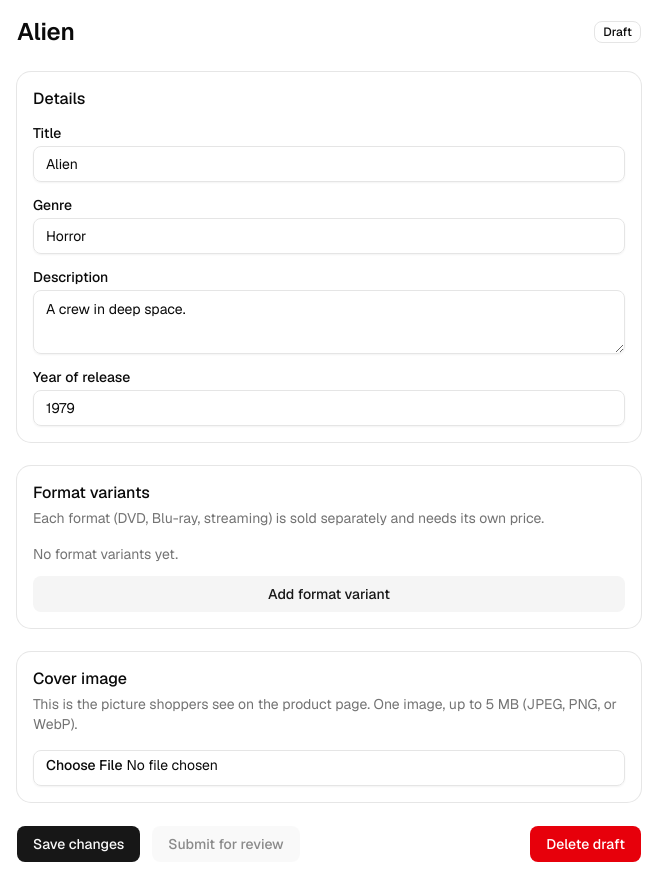
EditMovieDraftPage › saves scalar field and format variant changes via PUT
The width and height of the screenshot is (659, 872).
Replace the text in the field showing "Alien" with "Aliens": (329, 164) x1=33 y1=146 x2=625 y2=182
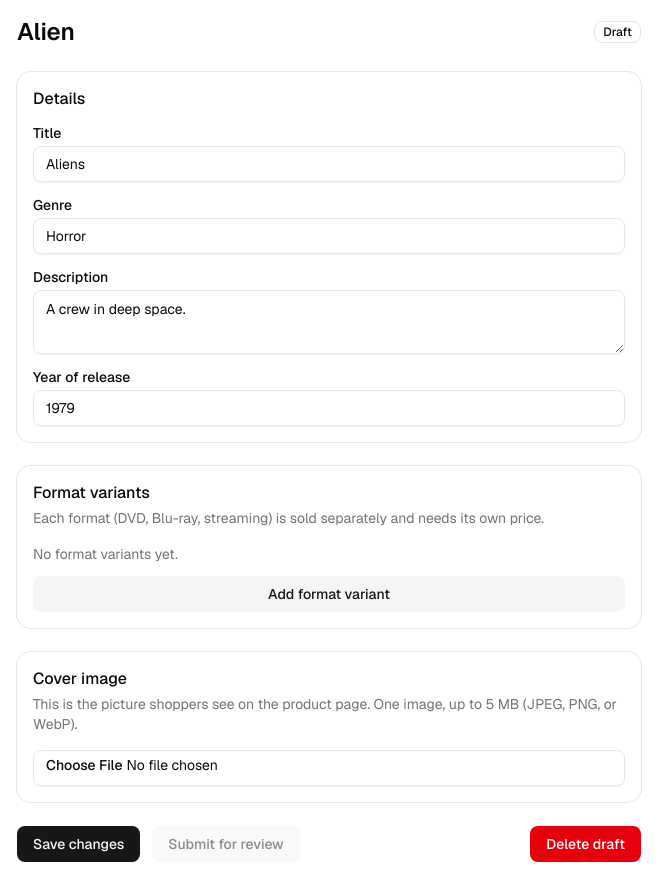
Click the button "Save changes": (79, 844) x1=17 y1=826 x2=140 y2=862
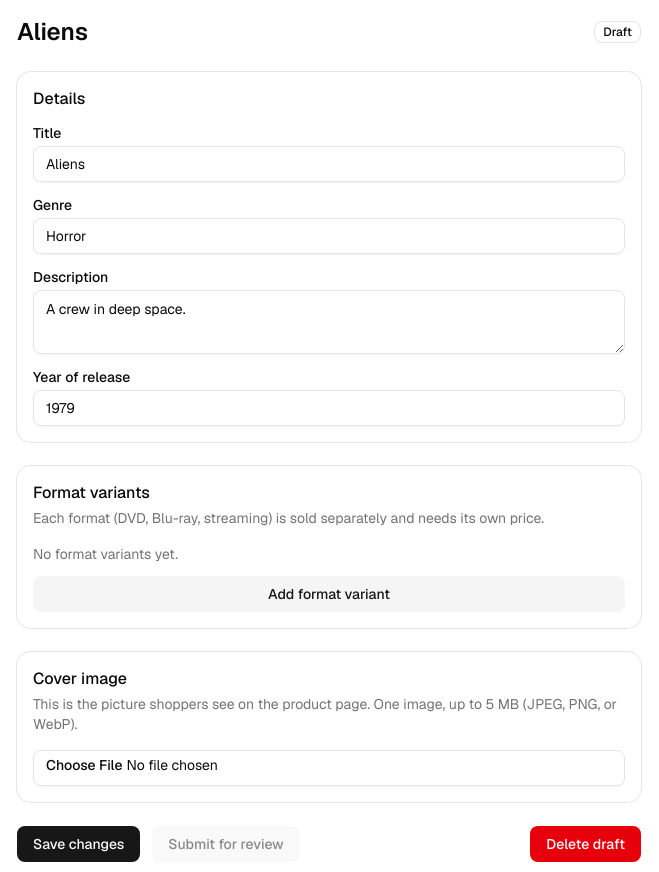
Expected: the heading "Aliens" is shown, x1=17 y1=16 x2=88 y2=48
